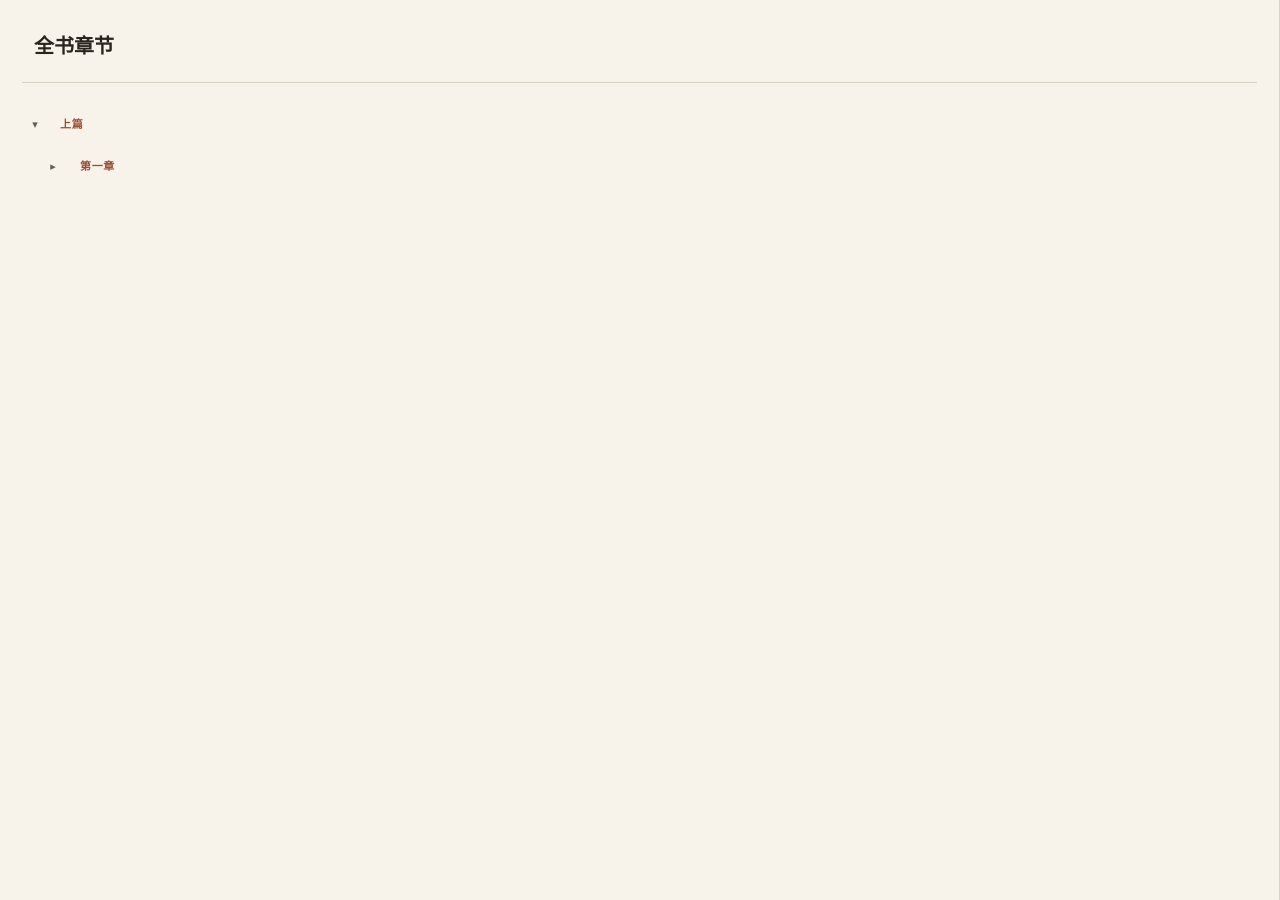
Scenario: ChapterSidebar › renders nested sections below chapters inside an outline-only part
Expected: the link "第一章" is shown, [80,159,115,173]
Click the button named "展开本章小节". click: (53, 166)
box: [40,147,66,185]
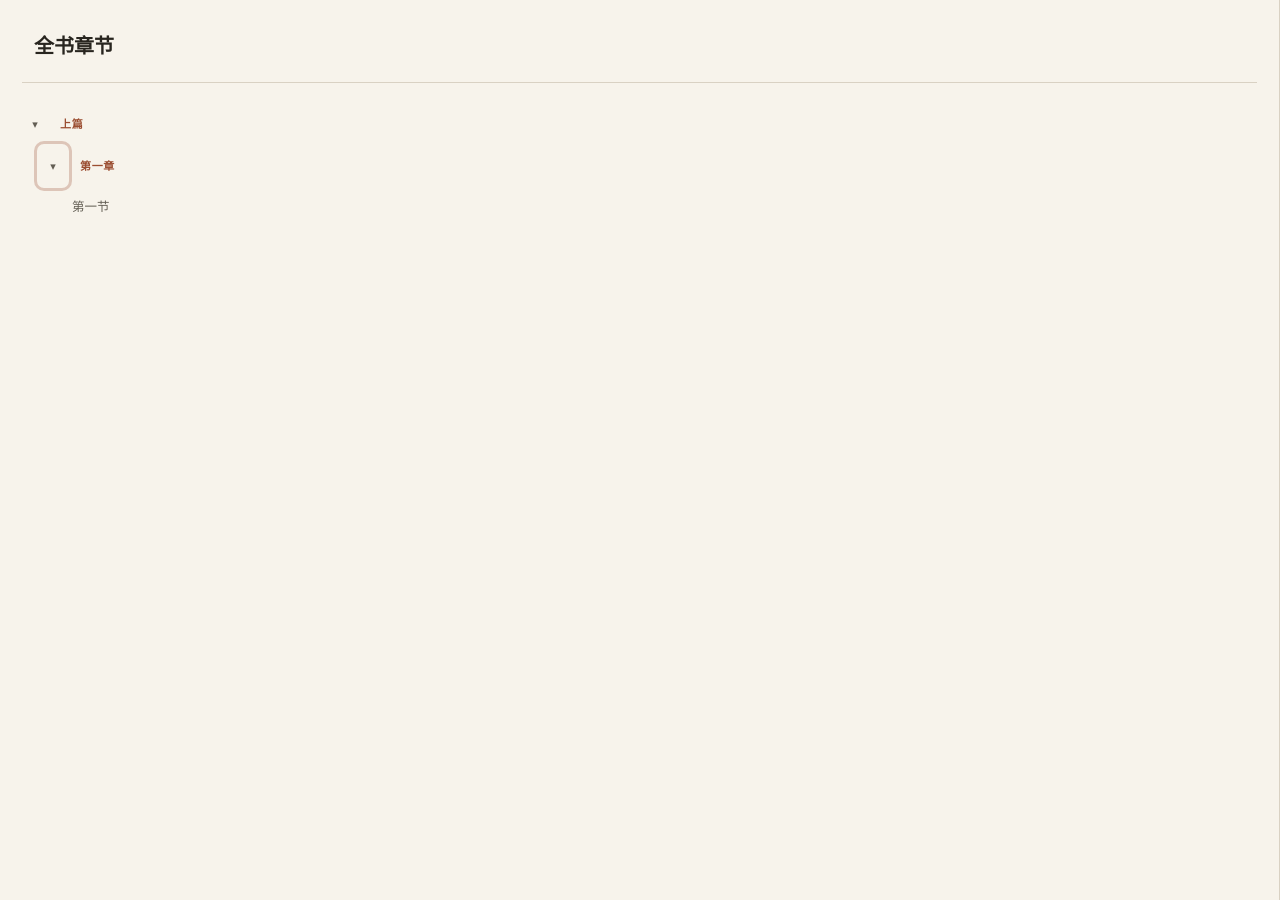
Result: the link "第一节" is shown at [72,199,110,214]
